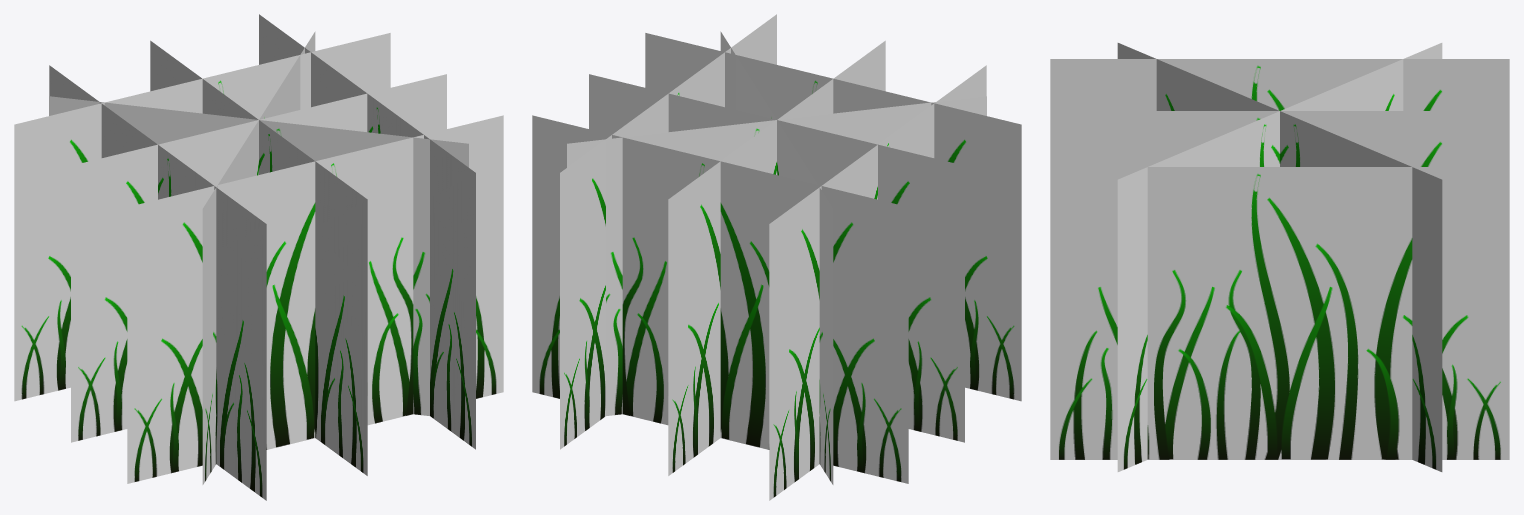
The model's file is grass_plane 2.fbx.
3 renders of one model, left to right at view 1: azimuth 30°, elevation 25°; view 2: azimuth 150°, elevation 25°; view 3: azimuth 270°, elevation 25°, orthographic. The views are drawn at different scales.
Parts seen in each view (by area): view 1: transfered_grass8; view 2: transfered_grass8; view 3: transfered_grass8.
Part boxes in pixels (x1,y1,x2,y2): transfered_grass8: (14,14,503,500); transfered_grass8: (532,14,1021,500); transfered_grass8: (1050,43,1509,471).
Size of the model in its own units: 26.94 by 18.94 by 26.94.
